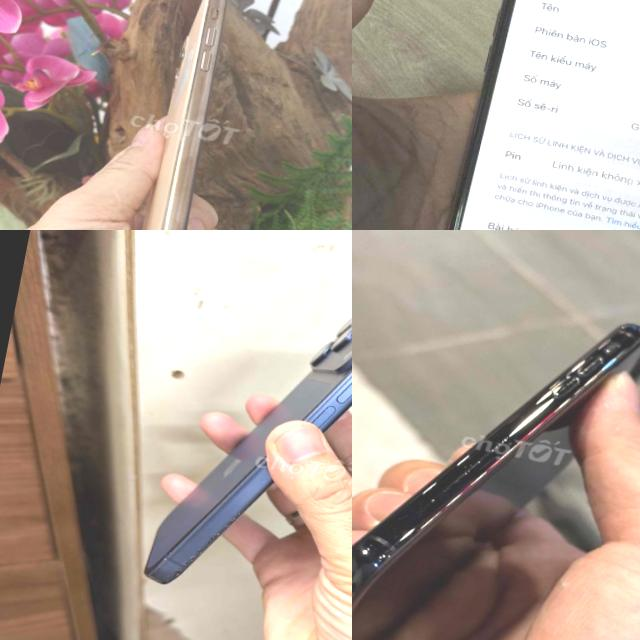gen_11: (352, 248, 640, 640), (112, 0, 246, 230)
gen_17: (146, 317, 352, 583)
gen_x_xs: (414, 0, 640, 230)
